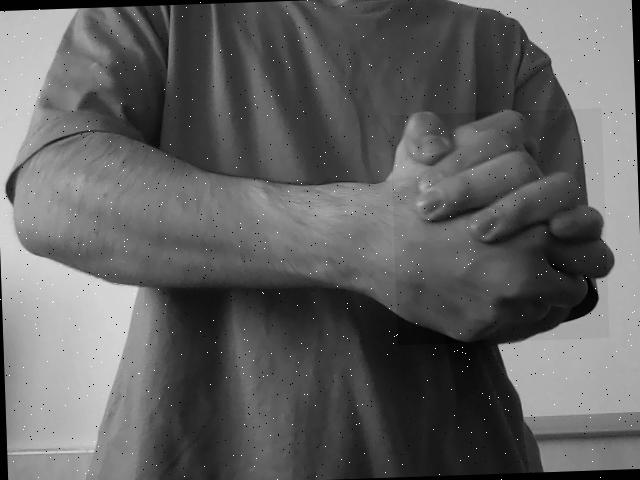friend: (390, 107, 609, 346)
